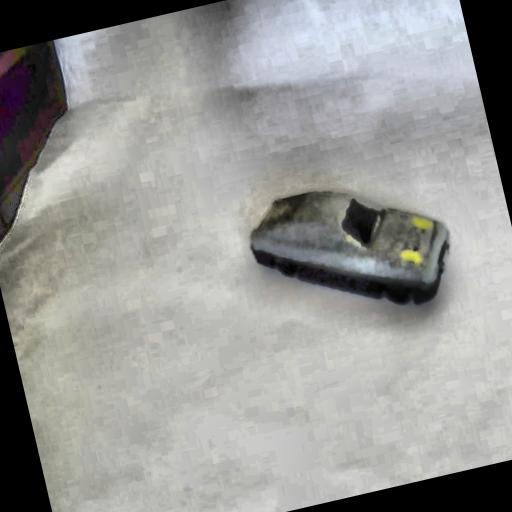normal_car: (235, 153, 468, 342)
